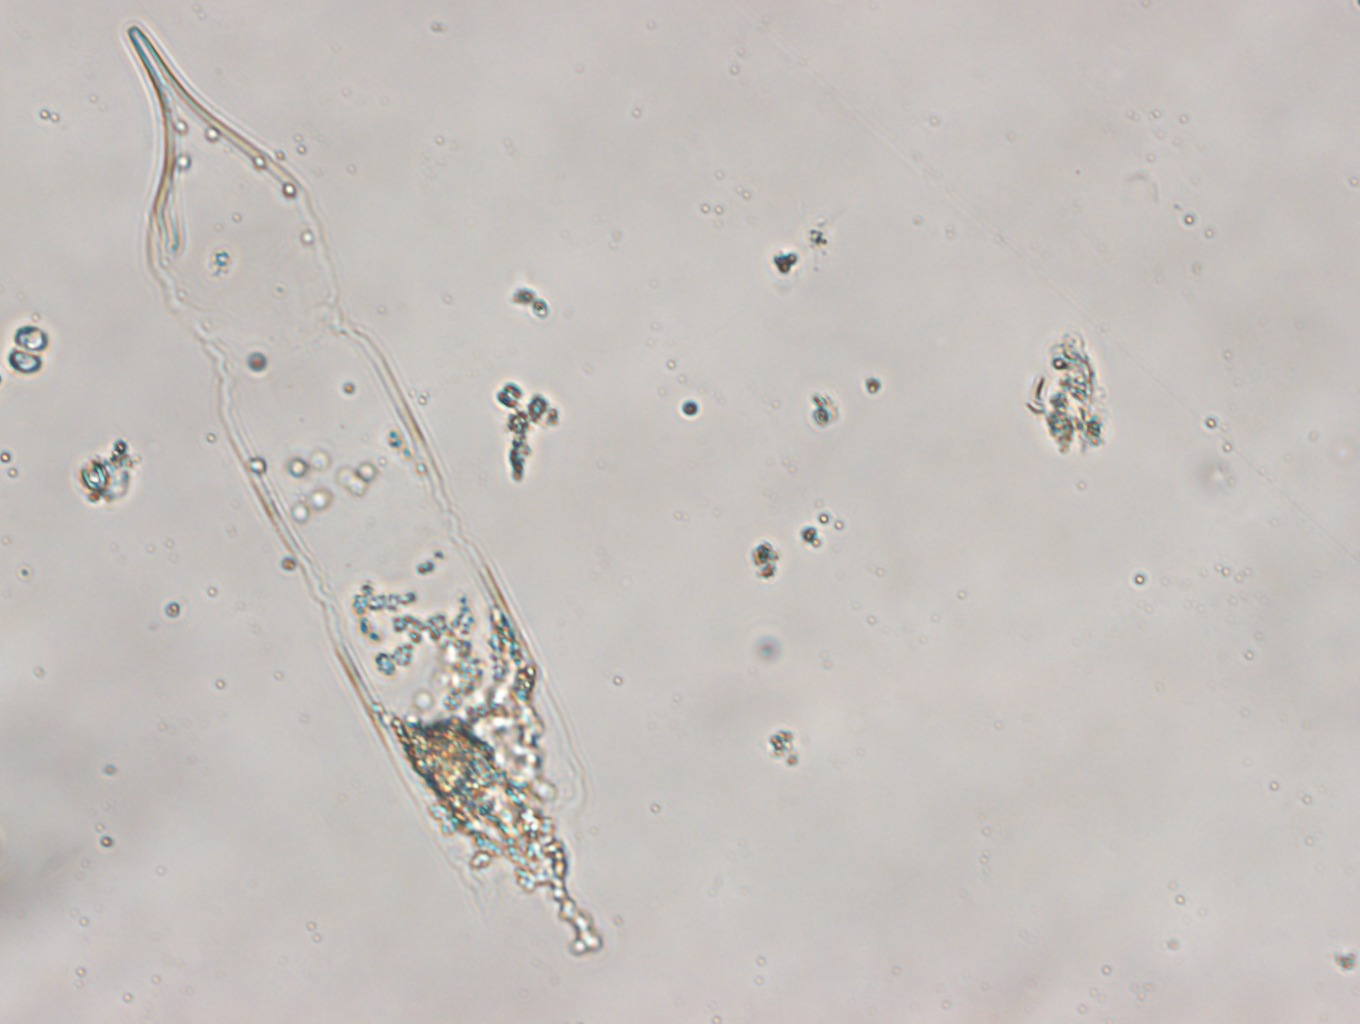rhizosolenia: (124, 22, 602, 957)
